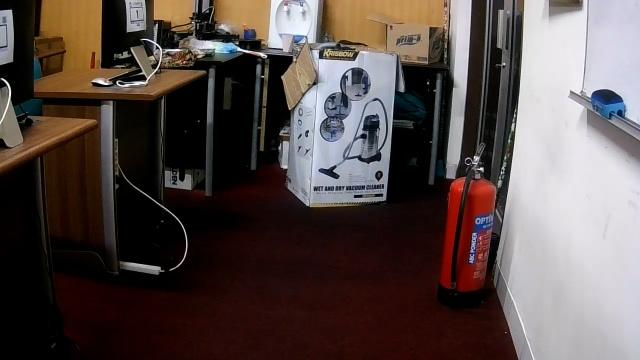AIO PC-Monitor-TV: (99, 0, 155, 84)
APAR: (437, 141, 496, 311)
Dispenser: (266, 0, 323, 50)
Meja: (31, 67, 206, 122)
